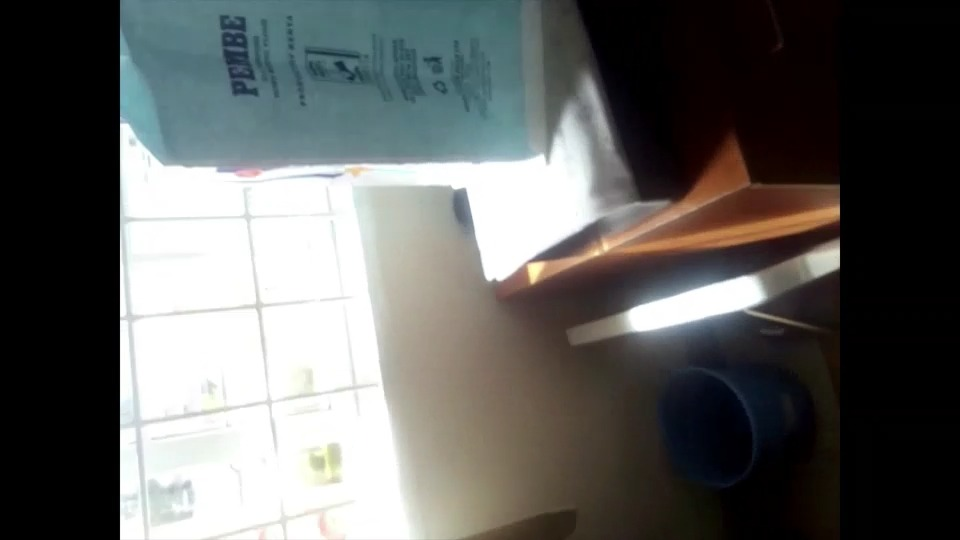wheat_flour_blue_label: (123, 0, 562, 179)
